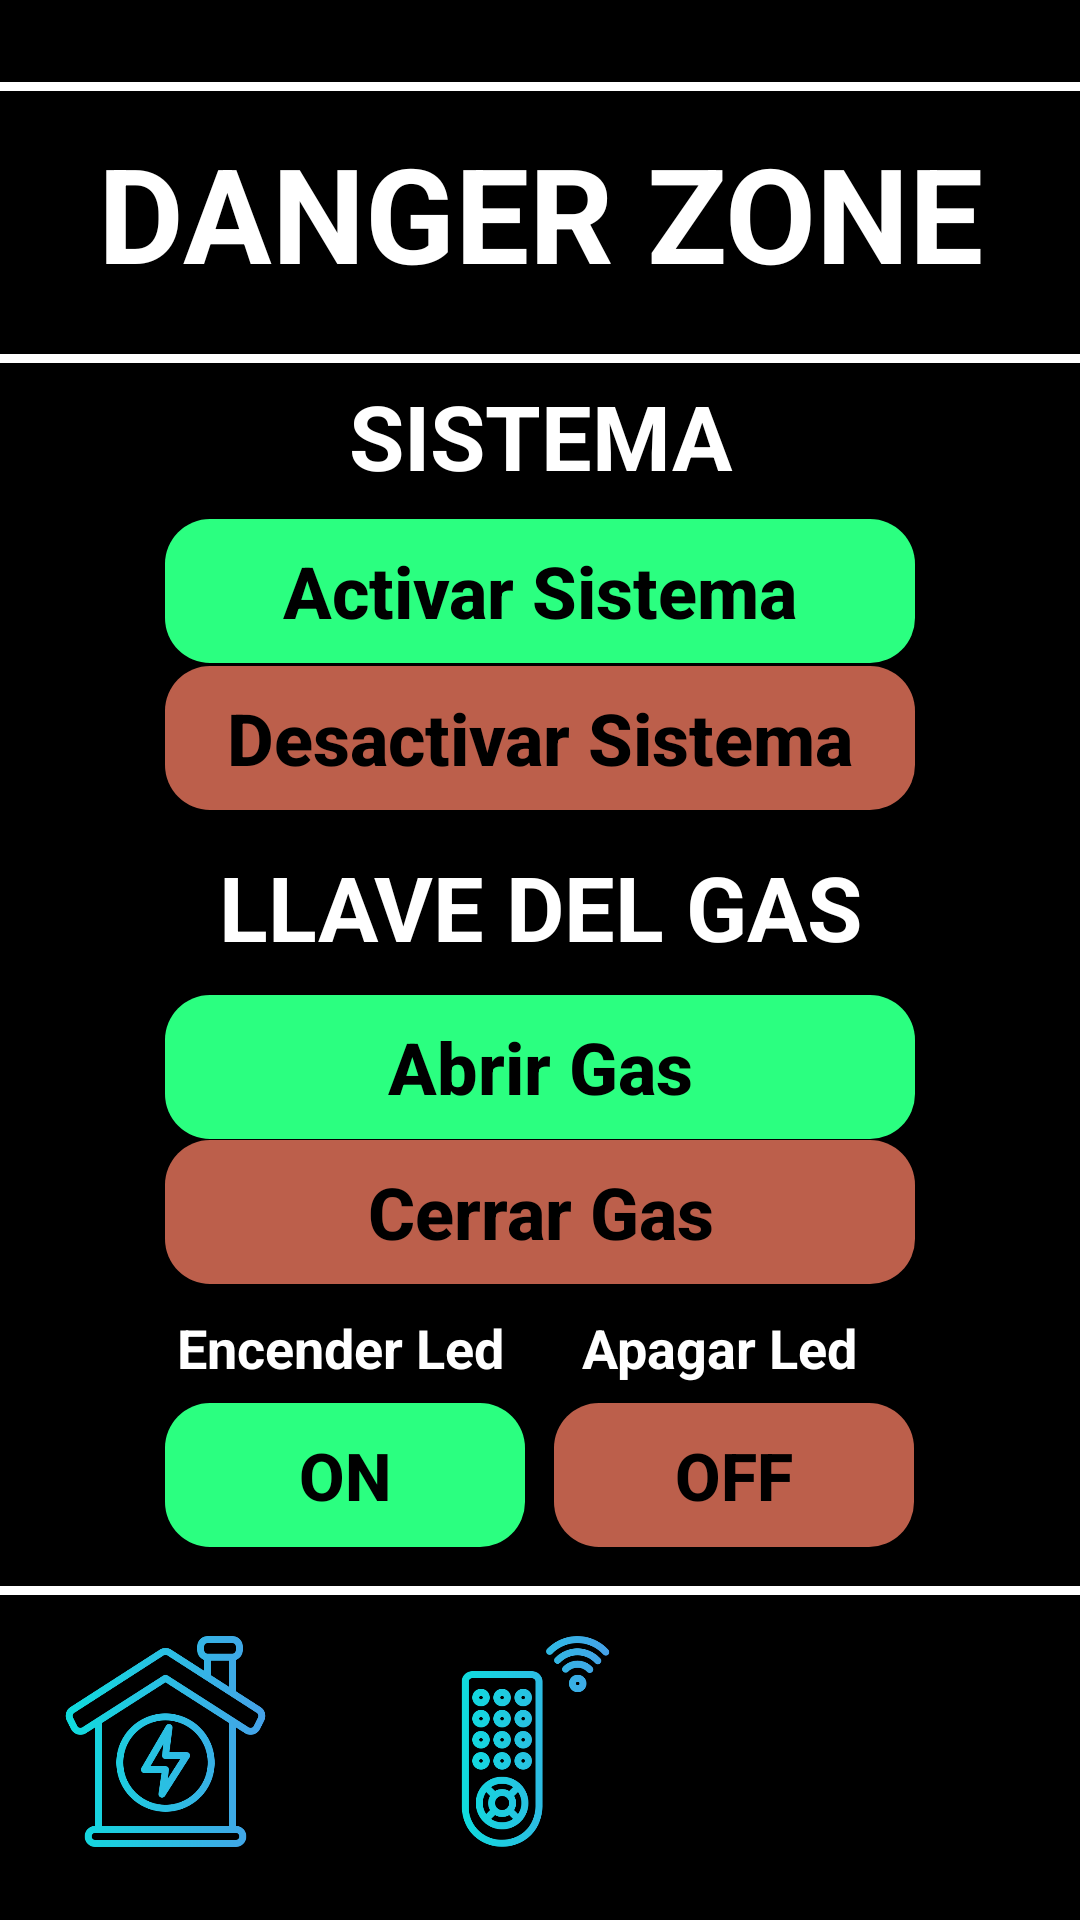

Icons on this 1080x1920 Android screen, each with its box as (x1, y1, x2, y2):
home: (65, 1636, 266, 1847)
